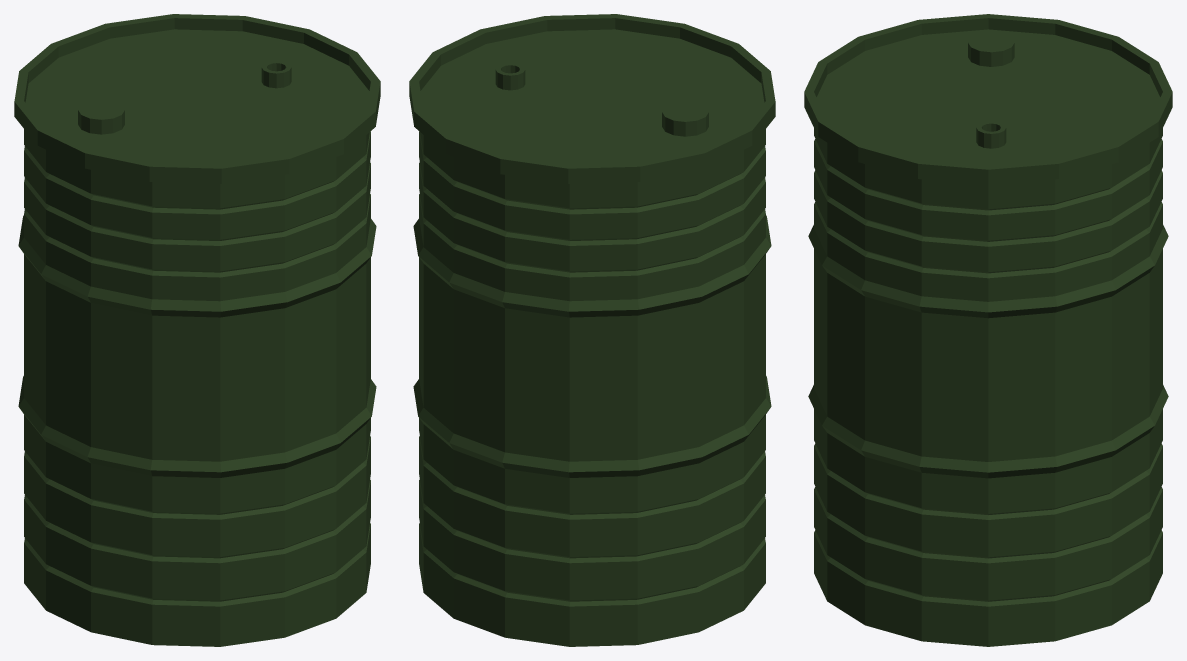
The model's file is Oil_barrel2.fbx.
The picture shows the model from 3 angles, left to right: view 1: azimuth 30°, elevation 25°; view 2: azimuth 150°, elevation 25°; view 3: azimuth 270°, elevation 25°; orthographic projection.
Parts seen in each view (by area): view 1: Cylinder.001; view 2: Cylinder.001; view 3: Cylinder.001.
Part boxes in pixels (left/top/right/bottom): Cylinder.001: left=14, top=14, right=380, bottom=646; Cylinder.001: left=409, top=14, right=775, bottom=646; Cylinder.001: left=804, top=14, right=1172, bottom=646.
Bounding box in the file's own units: 78.64 × 114 × 78.64.
